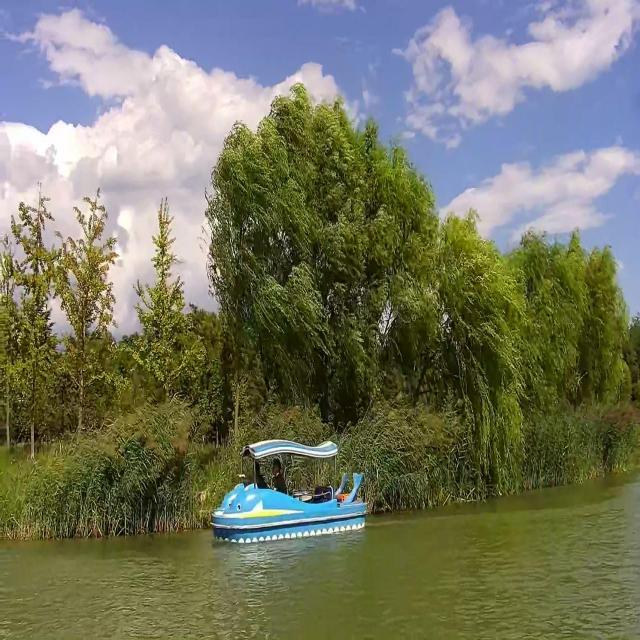CIV_Ship: (210, 438, 366, 542)
